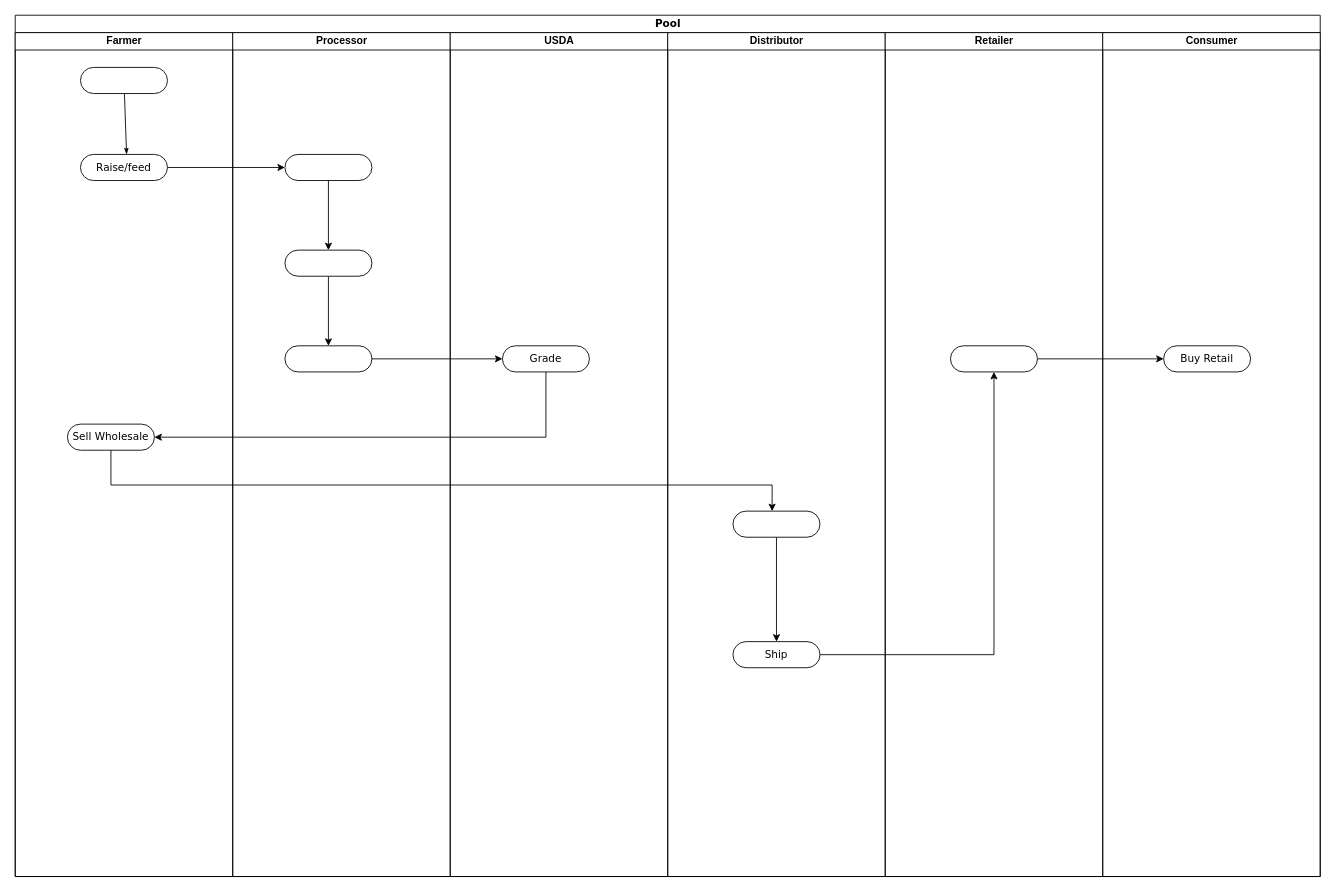
This 1335x892 diagram has some shape labels left out. The shapes that lost their labels are listed below. From the top down, each one's centre as x and y in pixels, then its label:
the point at 123,80: Breed Cattle
the point at 328,167: Slaughter
the point at 328,262: Split
the point at 328,358: Clean
the point at 993,358: Sell Retail
the point at 776,523: Buy Wholesale
